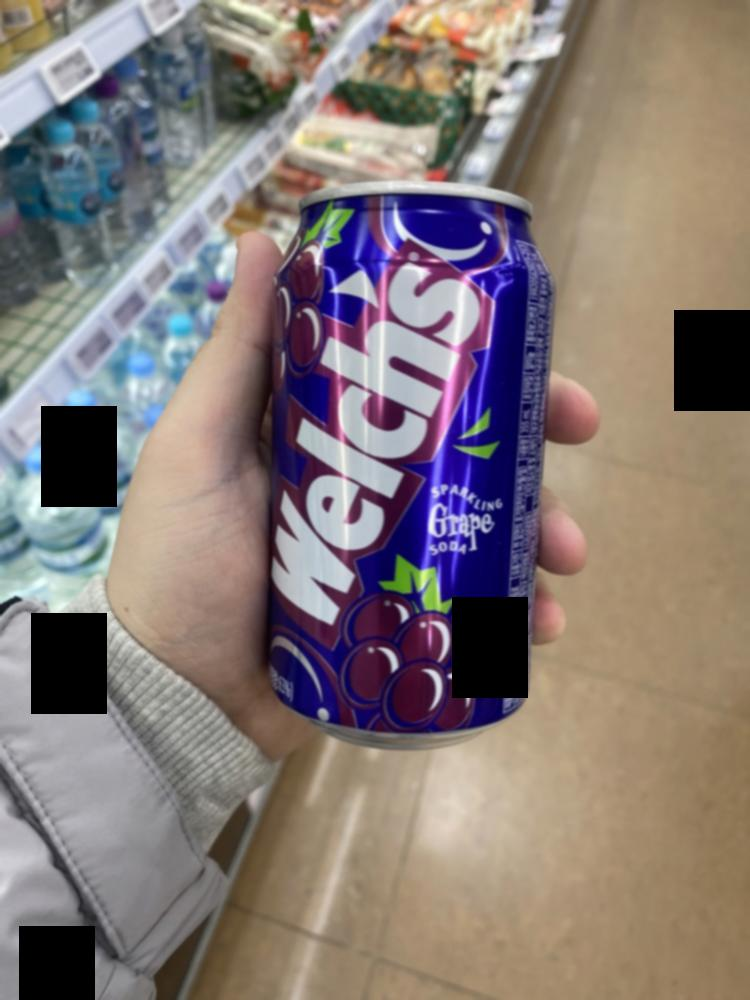welchs_grape: (267, 168, 544, 744)
